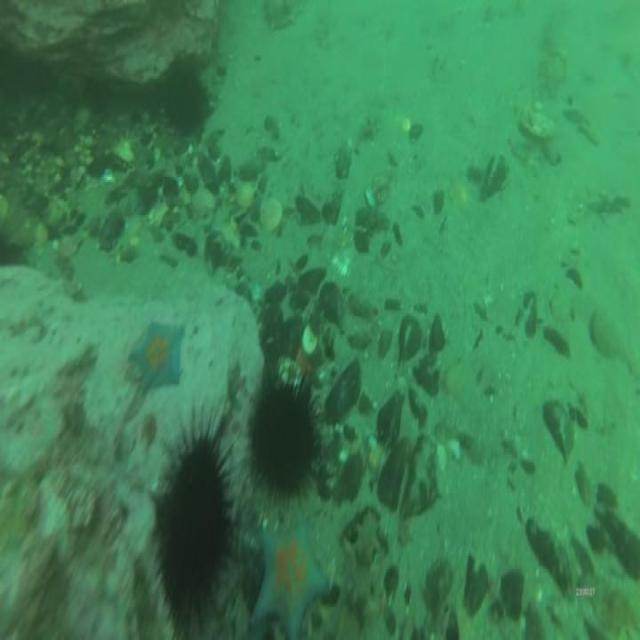echinus: (158, 438, 228, 616), (252, 386, 314, 488), (163, 68, 205, 131)
scallop: (258, 196, 284, 235)
starfish: (252, 516, 325, 640), (127, 320, 185, 390)
